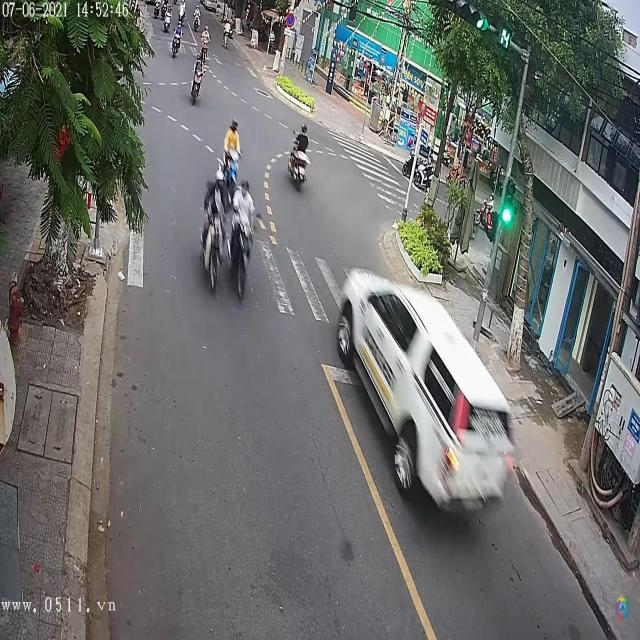motorcycle: (287, 149, 309, 191), (190, 64, 204, 109), (170, 29, 182, 60), (200, 34, 209, 66)
